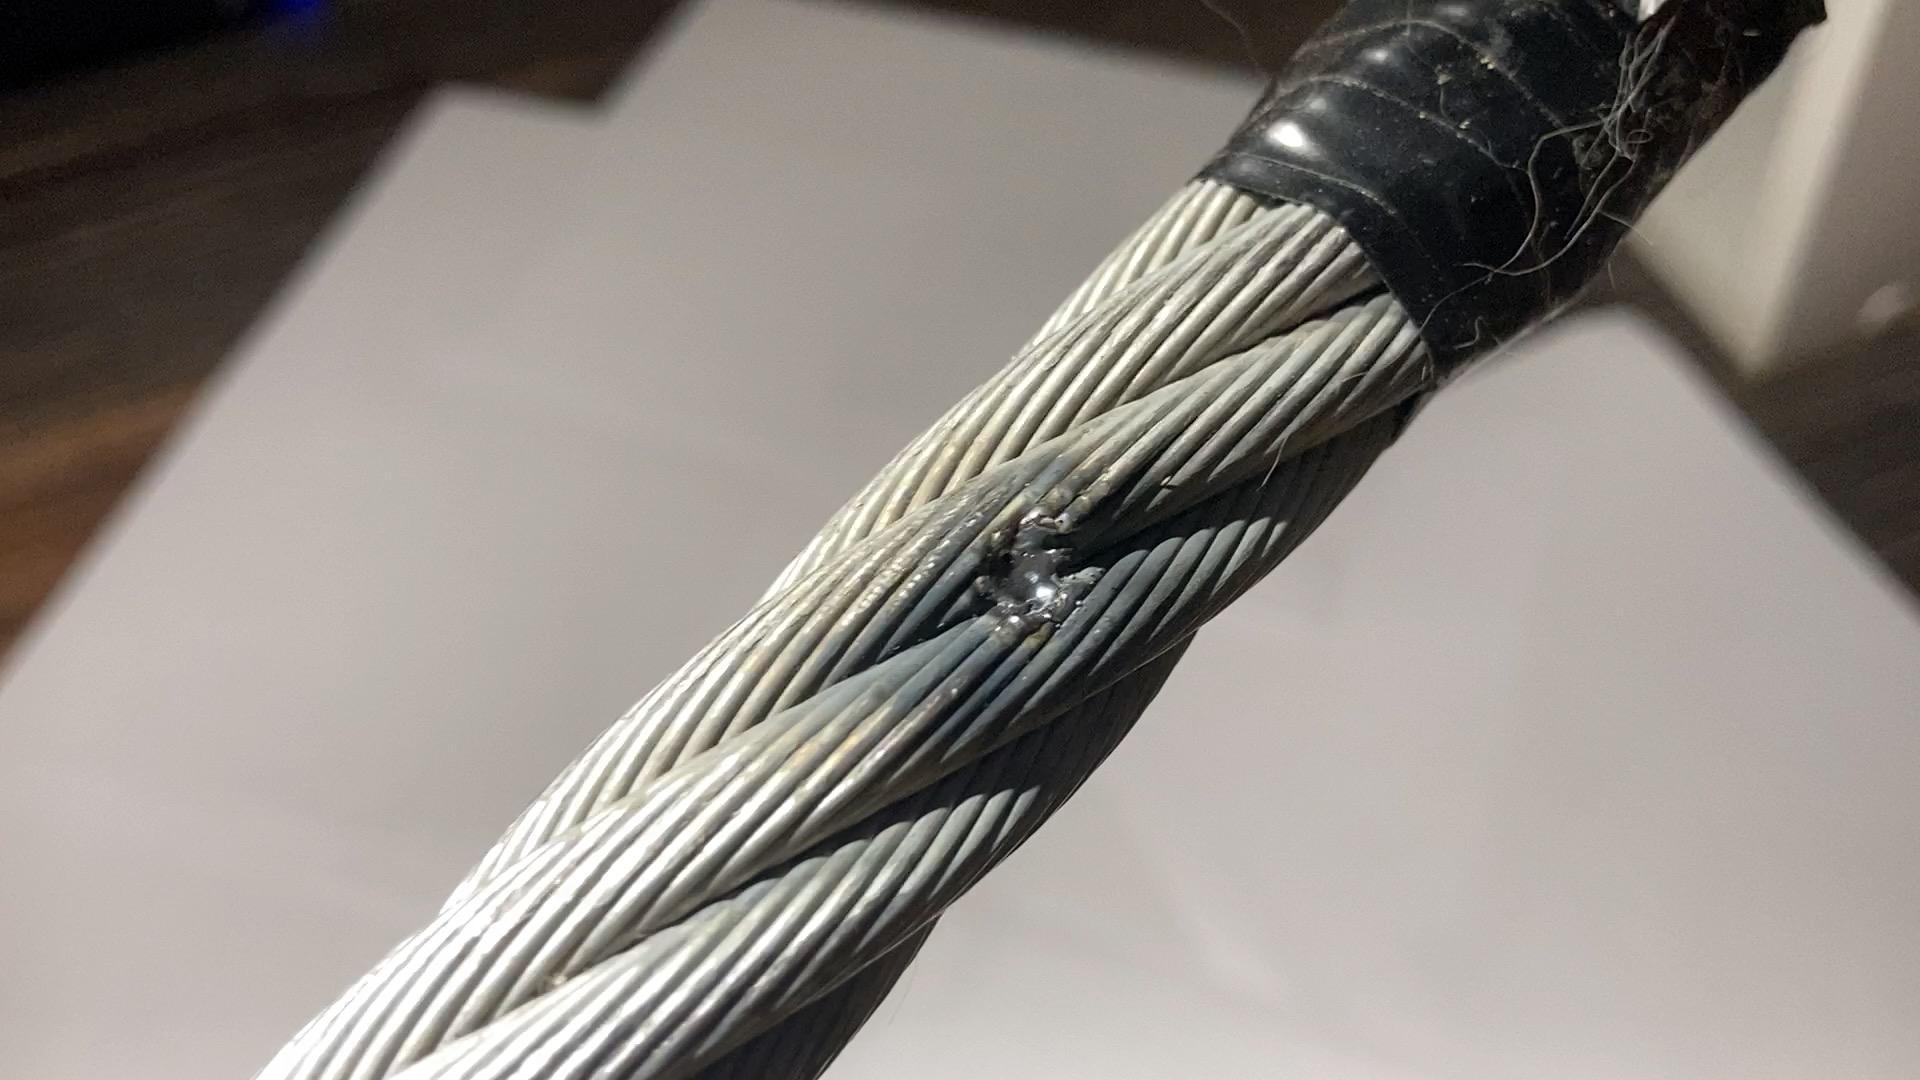thunderbolt: (961, 473, 1106, 633)
